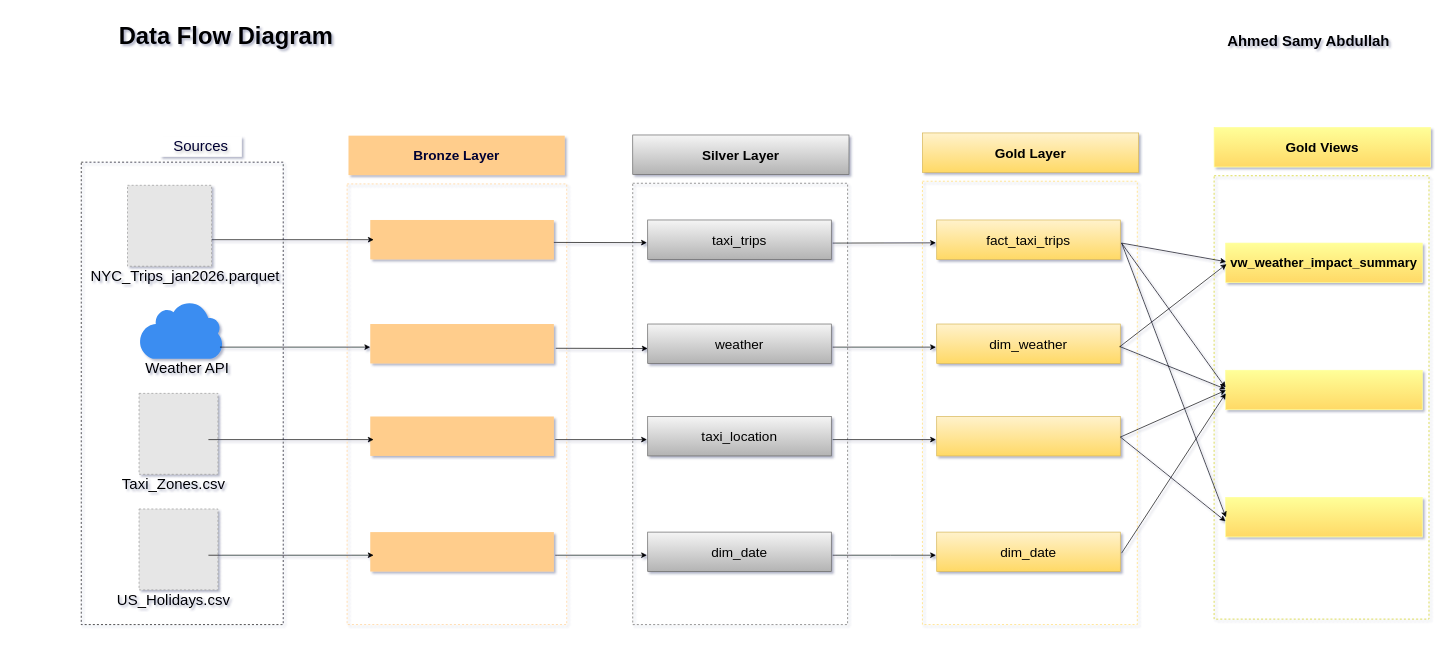
Image size: 1446x646. Some labels were removed from this diagram. Grey dashed boxes stand in for pictures. Here are the shapes that lost their labels. From the top down, the centre of each, then its label:
At [462,239]: "taxi_trips_raw".
At [462,343]: "weather_raw".
At [1323,390]: "vw_trip_analysis_master".
At [462,436]: "taxi_location_raw".
At [1028,436]: "dim_location".
At [1323,517]: "vw_location_performance".
At [462,551]: "date_raw".
